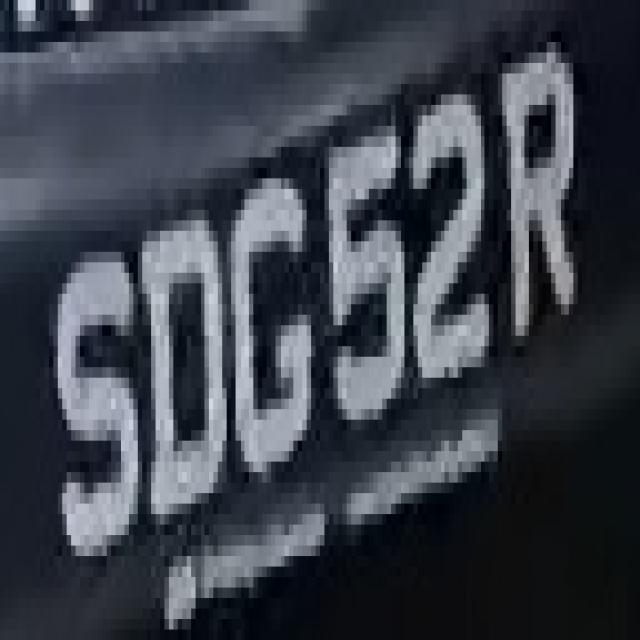2: (391, 84, 502, 420)
5: (311, 126, 405, 472)
D: (120, 189, 236, 524)
G: (214, 157, 316, 514)
R: (498, 11, 591, 398)
S: (40, 220, 138, 577)
